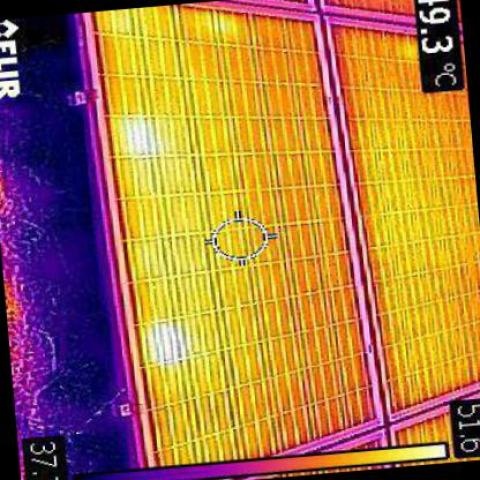fault: (148, 322, 191, 362), (125, 125, 154, 157)
